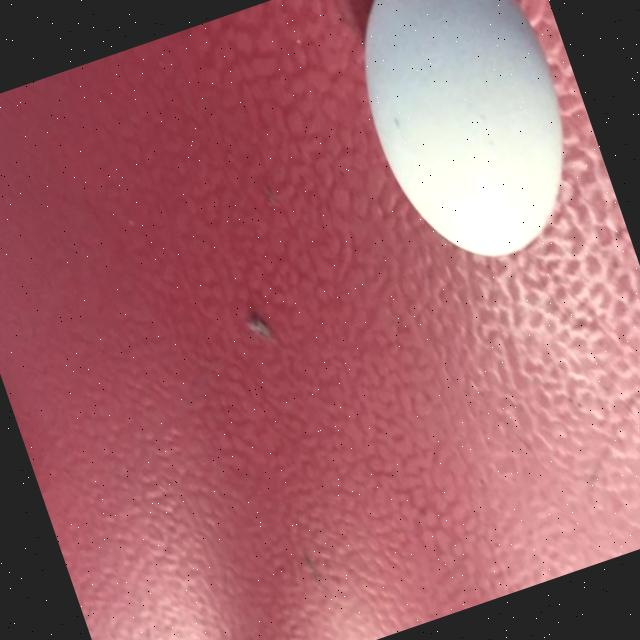ping-pong-ball: (311, 0, 626, 296)
